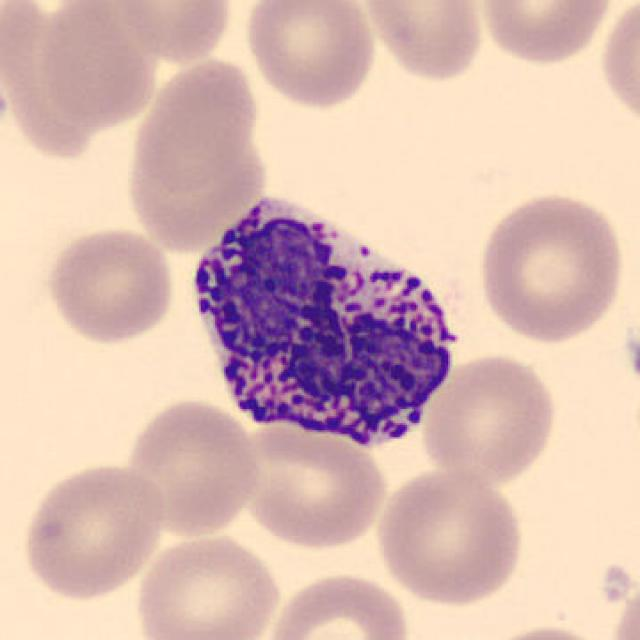Basophil: (176, 183, 475, 464)
RBC: (473, 187, 629, 345), (233, 411, 391, 552), (16, 458, 169, 603), (372, 466, 528, 608), (119, 395, 265, 539), (418, 349, 562, 487), (113, 135, 274, 253), (130, 529, 284, 640), (41, 224, 178, 347), (35, 0, 163, 130), (131, 59, 263, 183), (240, 0, 380, 111), (0, 0, 89, 164), (355, 0, 489, 85), (261, 567, 414, 640), (475, 0, 615, 67), (108, 0, 236, 65), (596, 0, 638, 136), (601, 564, 640, 640), (474, 620, 618, 640)
